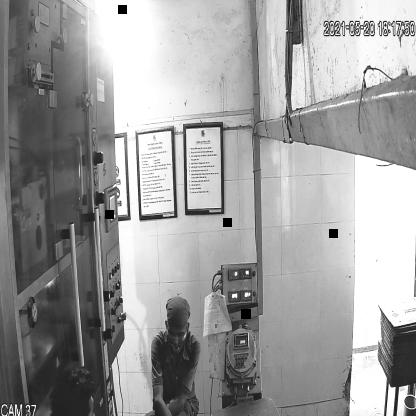goggles: (164, 322, 191, 347)
